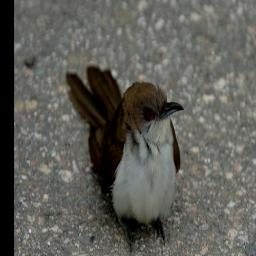Cuckoo: (65, 64, 185, 255)
